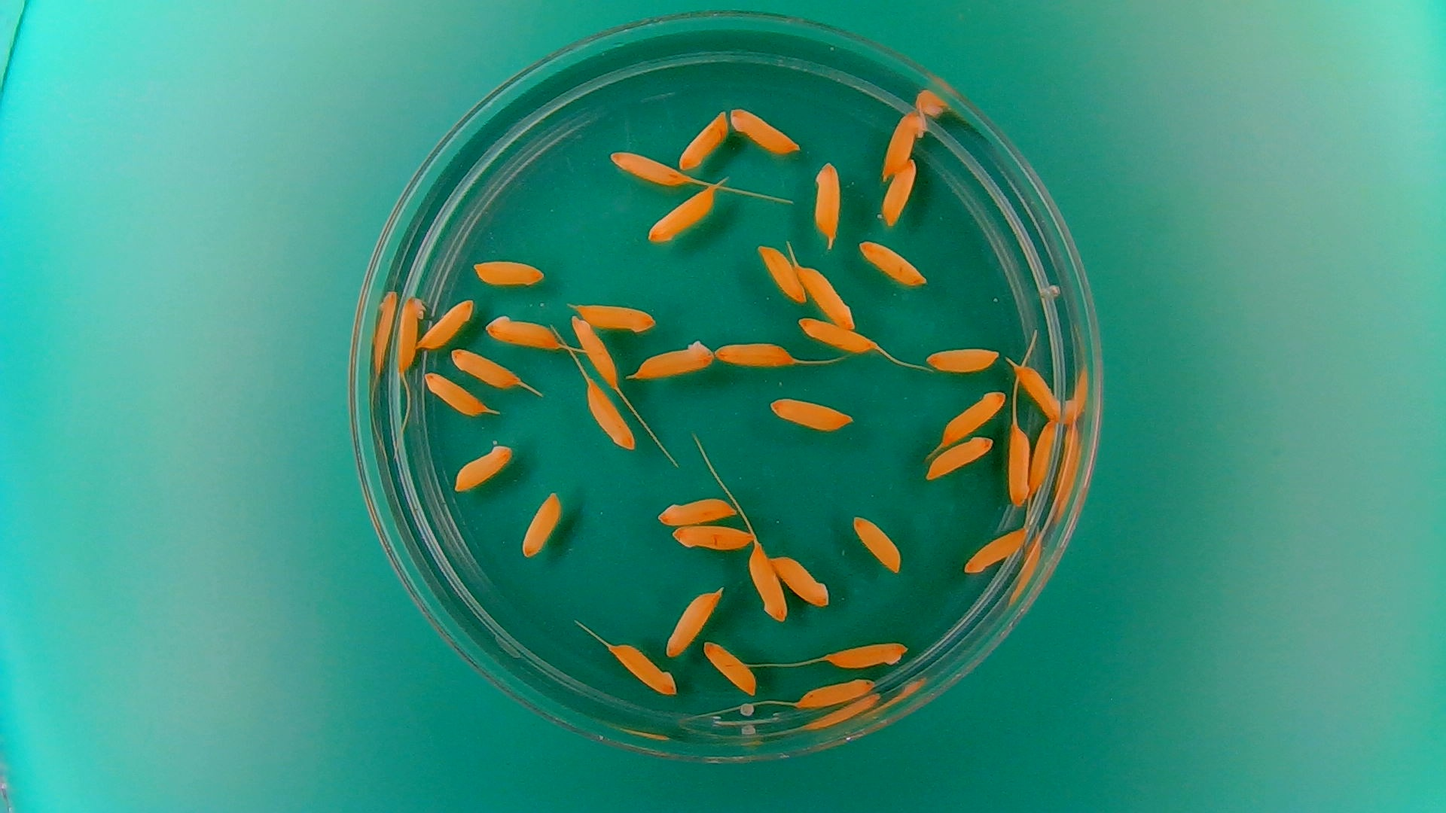no: (663, 585, 725, 659), (645, 184, 718, 245), (938, 388, 1008, 447), (795, 261, 856, 327), (627, 337, 715, 382), (584, 378, 638, 451), (569, 313, 619, 390), (856, 237, 930, 288), (609, 641, 677, 696), (925, 432, 998, 482), (960, 525, 1030, 577), (676, 105, 730, 172), (879, 107, 929, 179), (451, 437, 515, 493), (606, 147, 693, 188), (769, 553, 832, 609), (730, 110, 803, 158), (850, 513, 905, 575), (746, 544, 789, 623), (767, 394, 856, 432), (1011, 358, 1063, 423), (701, 638, 759, 696), (416, 295, 476, 350), (420, 369, 490, 416), (795, 315, 877, 355), (449, 346, 523, 389), (569, 299, 657, 335), (520, 488, 564, 559), (878, 155, 920, 229), (755, 242, 805, 303), (483, 312, 563, 350), (810, 158, 844, 245), (824, 638, 909, 671), (794, 677, 875, 710), (669, 522, 755, 553), (1003, 419, 1033, 507), (1027, 420, 1062, 495), (393, 293, 426, 372), (714, 338, 798, 369), (655, 495, 739, 526), (924, 343, 1002, 376), (471, 255, 548, 288)
